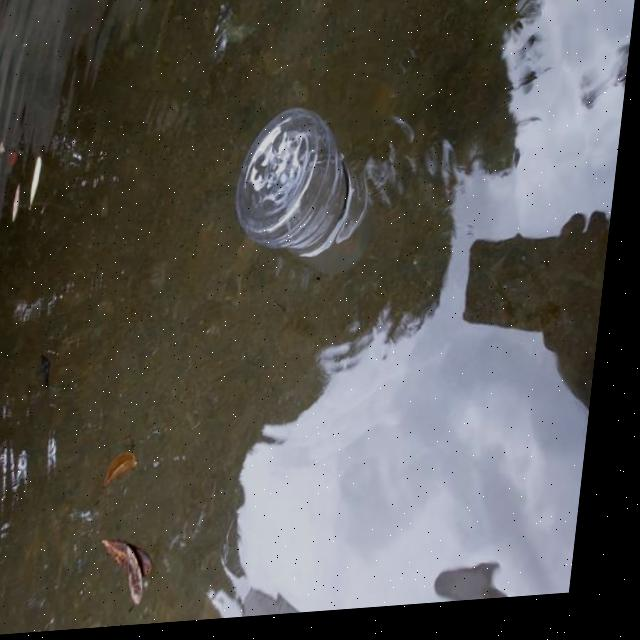leaf: (99, 511, 176, 629), (107, 433, 178, 494)
waterbottle: (216, 94, 396, 295)
